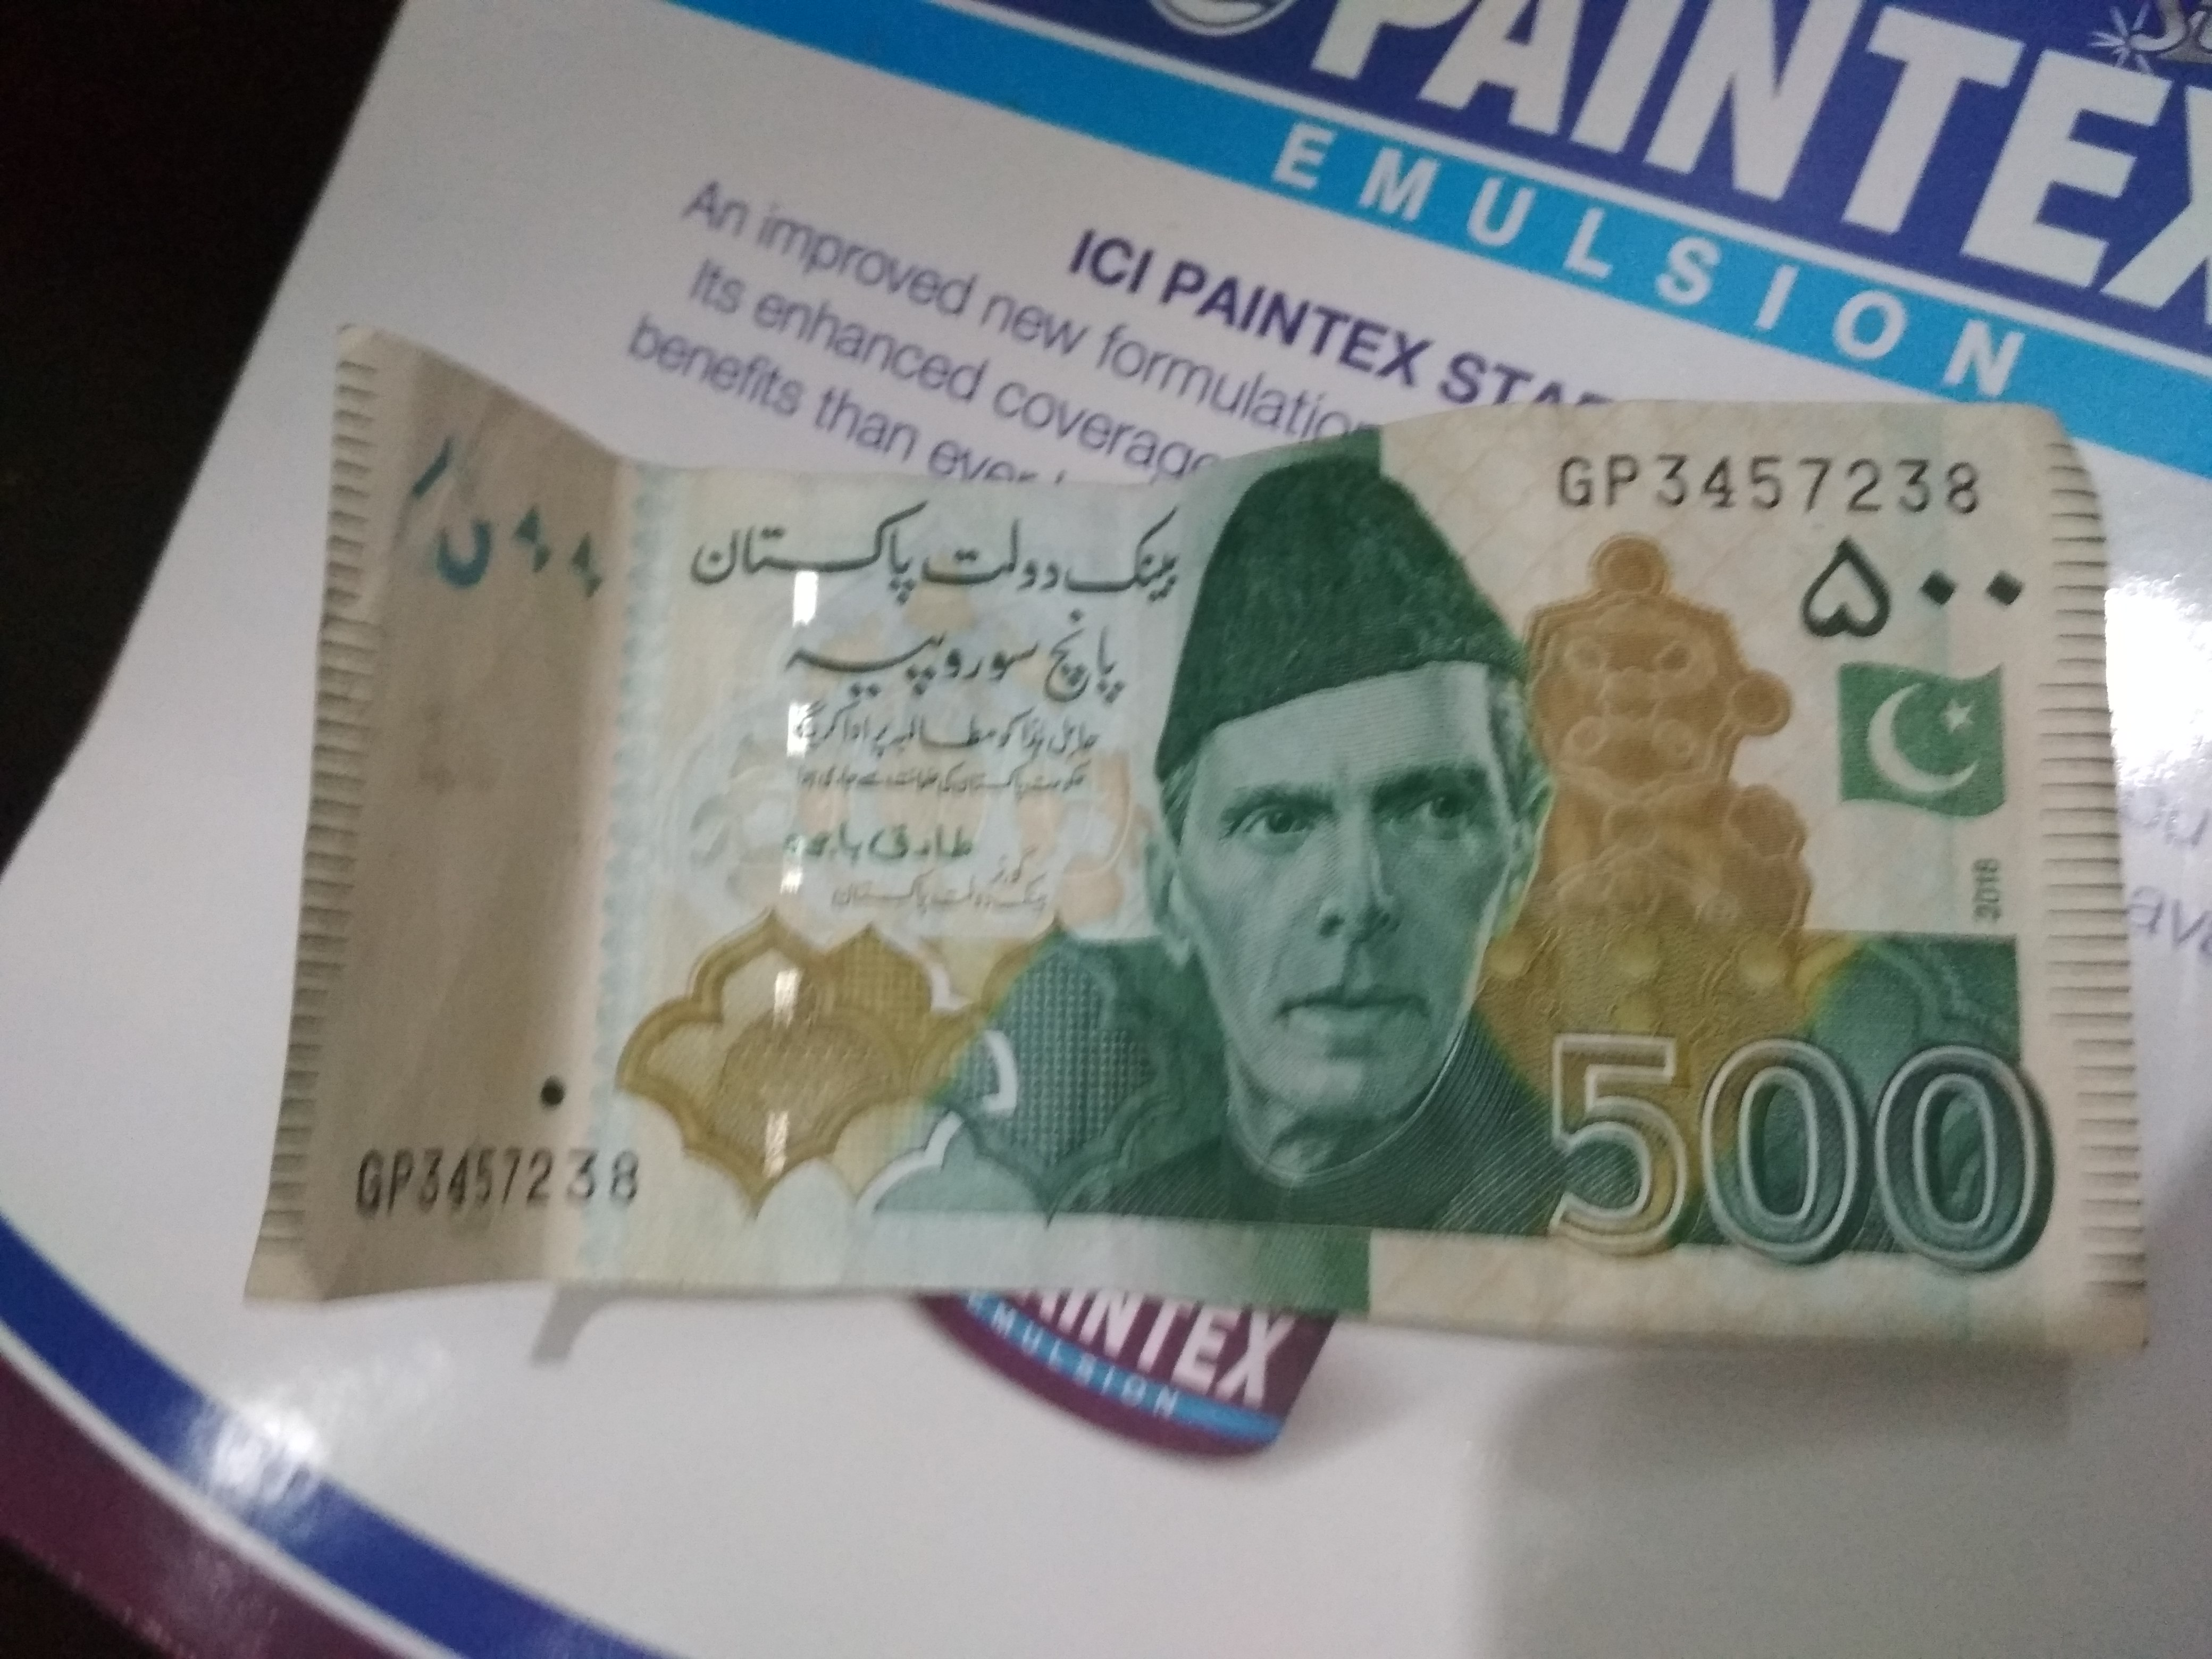500 rupee: (280, 289, 2193, 1419)
